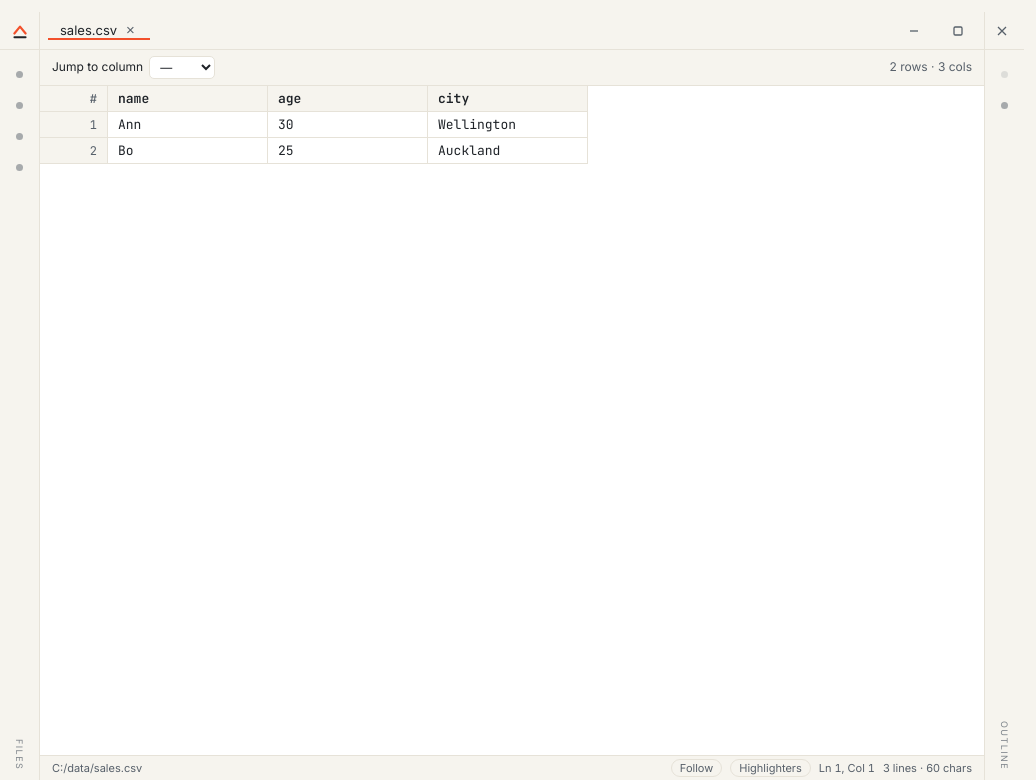
Test: tabular view › marks a column with a direction arrow when its header is clicked to sort
The image size is (1036, 780).
Click the button "age" at point(348, 98), box 268,86 -> 428,111
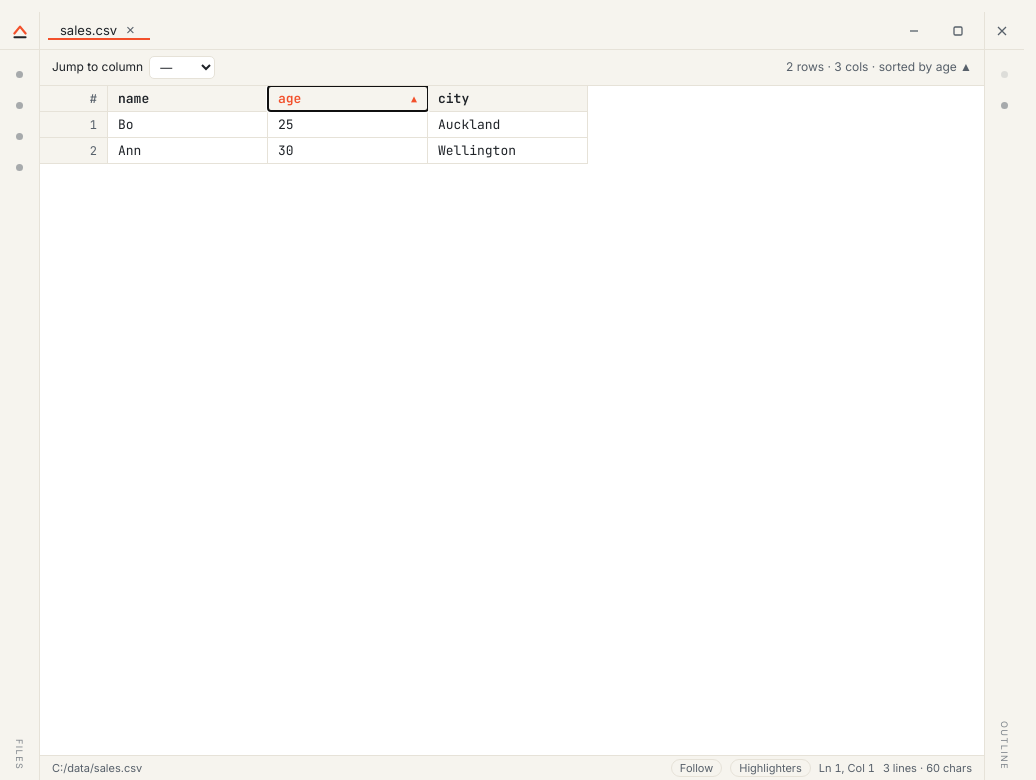
Check: the text "▲" is shown, box 411,91 -> 417,106
